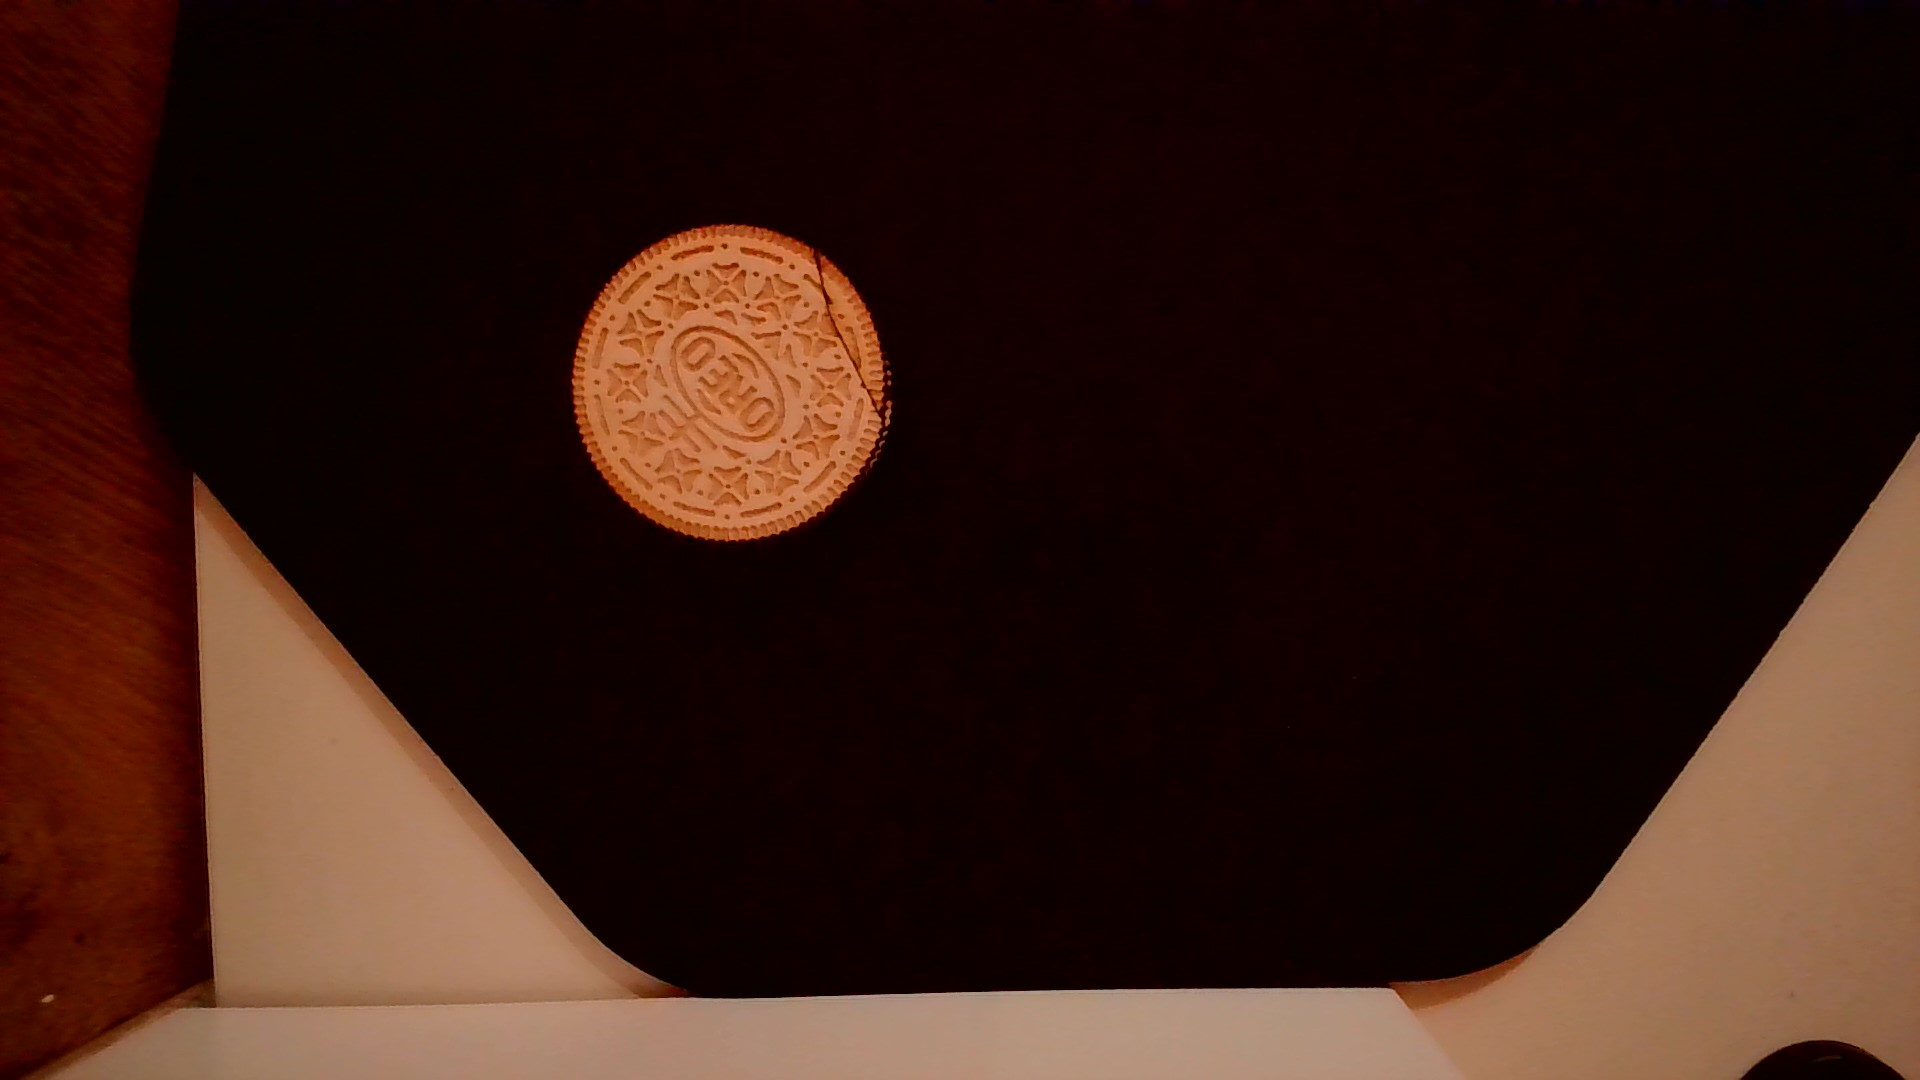Fissure: (800, 247, 894, 438)
Oréo: (553, 215, 894, 549)
